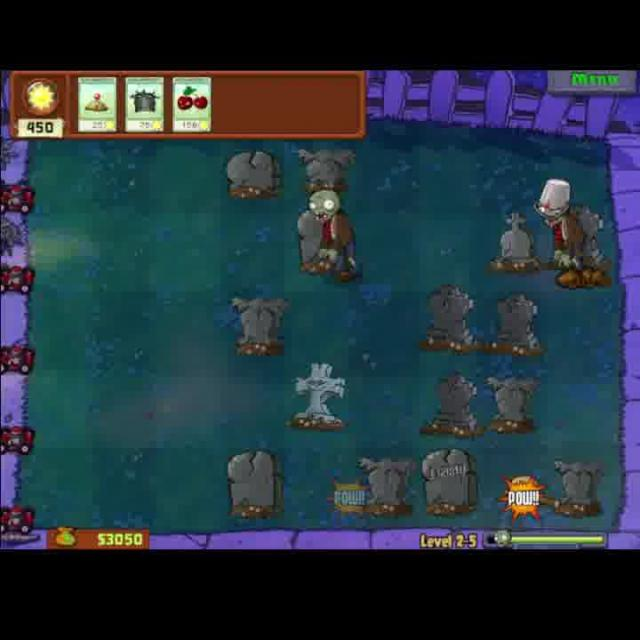coins: (530, 175, 586, 292), (311, 181, 365, 287)
